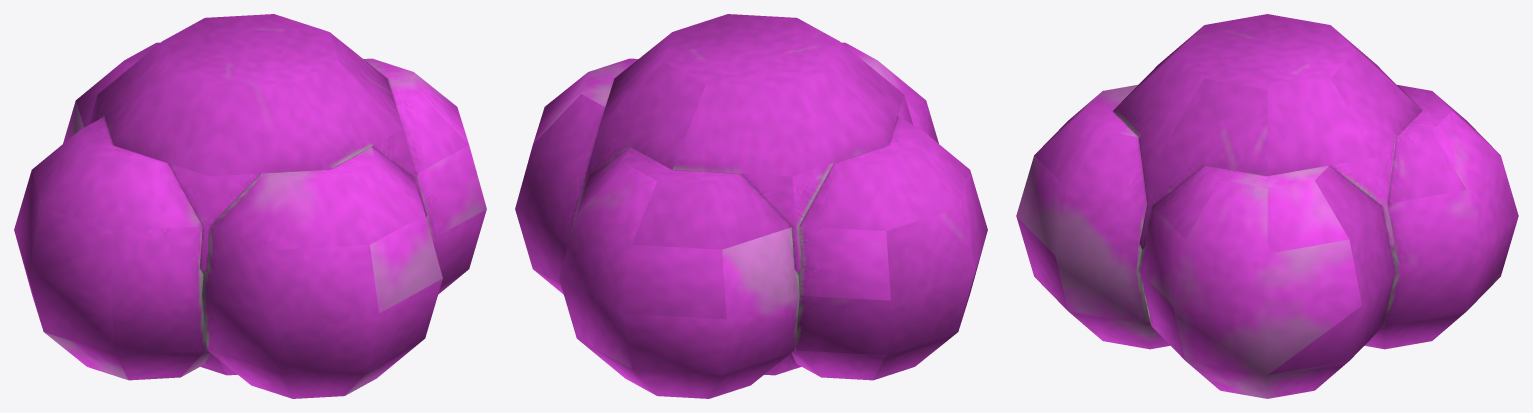
File: smoke.glb
3 renders of one model, left to right at view 1: azimuth 30°, elevation 25°; view 2: azimuth 150°, elevation 25°; view 3: azimuth 270°, elevation 25°, orthographic. The views are drawn at different scales.
Visible parts, largest first — view 1: smoke; view 2: smoke; view 3: smoke.
Part boxes in pixels (x1=…): smoke: x1=14, y1=14, x2=486, y2=398; smoke: x1=515, y1=14, x2=987, y2=398; smoke: x1=1016, y1=14, x2=1518, y2=398.
Size of the model in its own units: 0.277 by 0.1704 by 0.277.
1 material, 1 textured.
